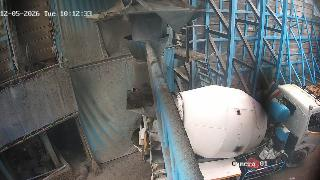cement_mixer_truck: (126, 83, 320, 180)
swing_chute: (124, 35, 171, 98)
